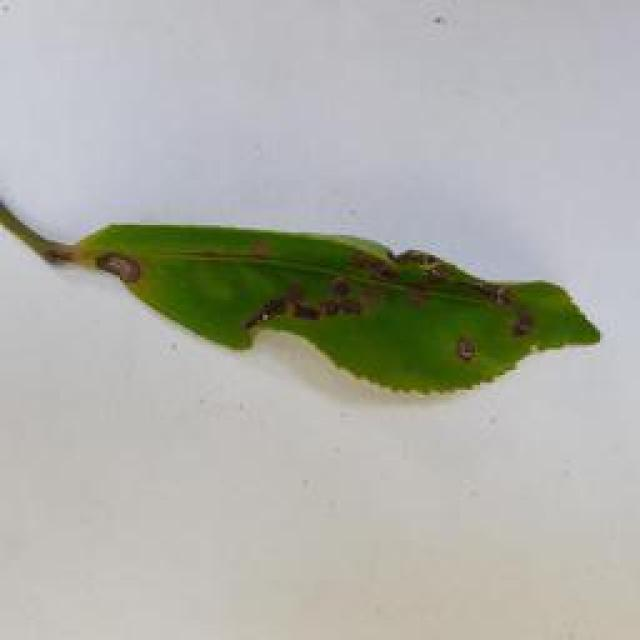Helopeltis: (40, 192, 640, 410)
